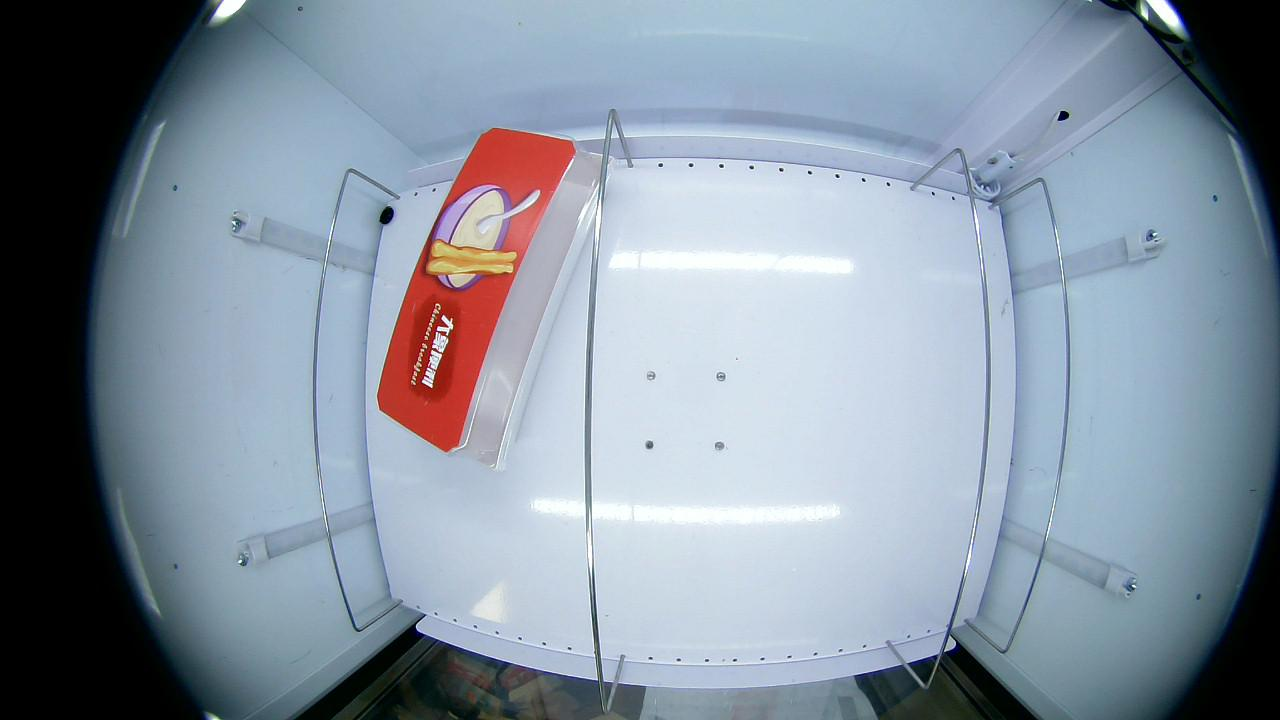goods: (416, 178, 544, 295)
